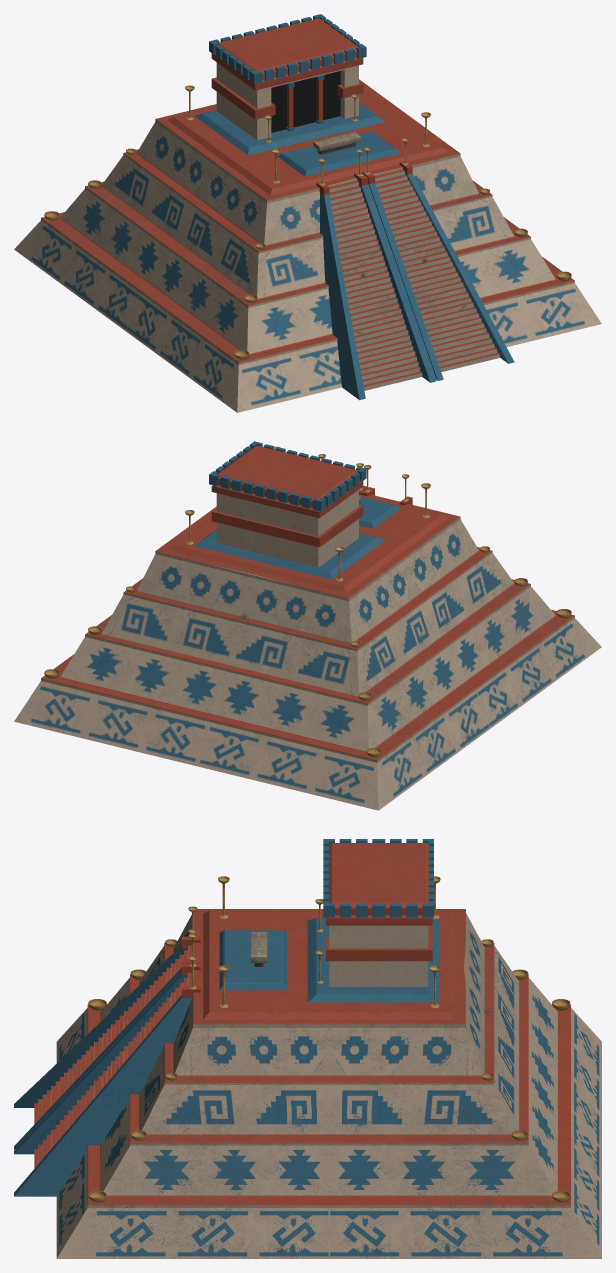
File: ASSETMODEL_PIRAMIDE.fbx
3 renders of one model, top to bottom at view 1: azimuth 30°, elevation 25°; view 2: azimuth 150°, elevation 25°; view 3: azimuth 270°, elevation 25°, orthographic. The views are drawn at different scales.
Visible parts, largest first — view 1: Main_Build.003, Stairs.001, Plane.015, Main_Build.007, Cube.069, Main_Build.006, Main_Build.004, Plane.017; view 2: Main_Build.003, Plane.015, Cube.069, Main_Build.007, Main_Build.004, Main_Build.006; view 3: Main_Build.003, Stairs.001, Plane.015, Main_Build.007, Main_Build.006, Cube.069, Main_Build.004, Main_Build.005, Plane.017.
Part boxes in pixels (x1,y1,x2,y2): Main_Build.003: (14,79,601,412); Stairs.001: (316,138,514,400); Plane.015: (211,18,363,142); Main_Build.007: (194,102,385,155); Cube.069: (209,14,366,84); Main_Build.006: (277,131,400,176); Main_Build.004: (44,148,571,359); Plane.017: (313,132,360,154); Main_Build.003: (14,494,601,810); Plane.015: (211,445,363,567); Cube.069: (209,441,366,511); Main_Build.007: (194,530,385,579); Main_Build.004: (44,546,571,757); Main_Build.006: (359,496,400,528); Main_Build.003: (56,909,601,1258); Stairs.001: (14,906,200,1196); Plane.015: (315,843,432,986); Main_Build.007: (307,918,438,1002); Main_Build.006: (219,930,286,990); Cube.069: (323,839,433,917); Main_Build.004: (88,939,570,1202); Main_Build.005: (218,876,440,1008); Plane.017: (250,932,267,966).
Bounding box in the file's own units: 4020 × 2398 × 4599.
